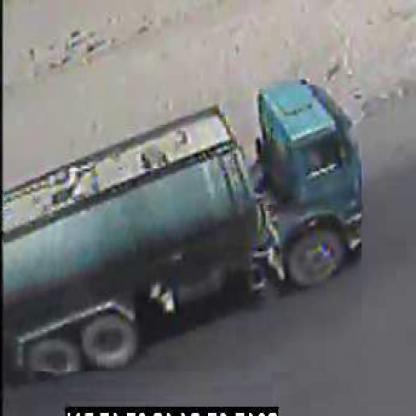truck: (4, 86, 363, 374)
